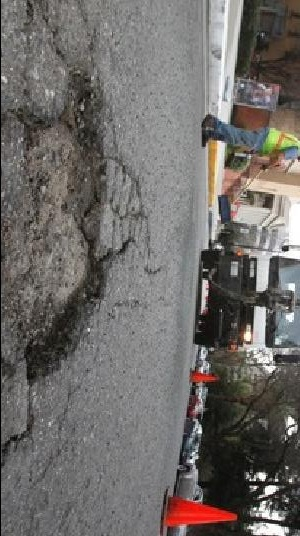pothole: (0, 65, 113, 389)
